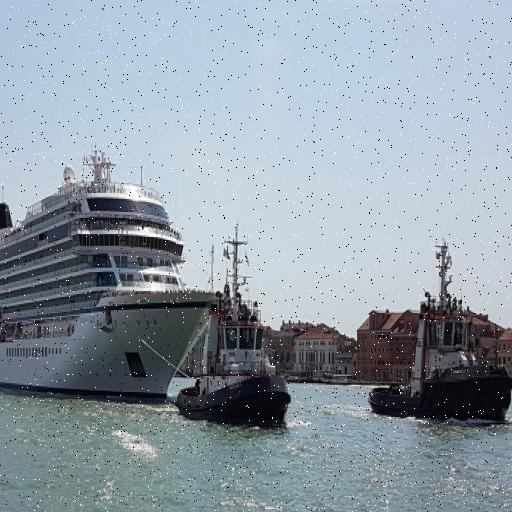cruises: (1, 149, 223, 412)
